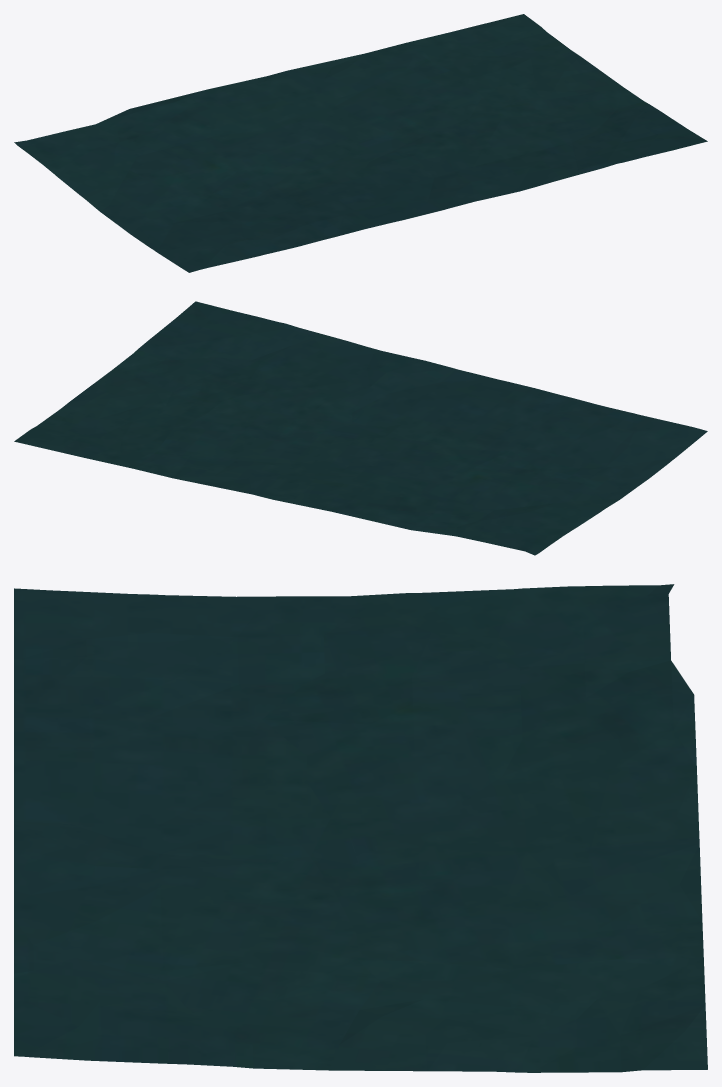
The picture shows the model from 3 angles, top to bottom: view 1: azimuth 30°, elevation 25°; view 2: azimuth 150°, elevation 25°; view 3: azimuth 270°, elevation 25°; orthographic projection. The views are drawn at different scales.
Size of the model in its own units: 52.22 by 0.9795 by 32.1.
Materials: 2 (2 with a texture image).
